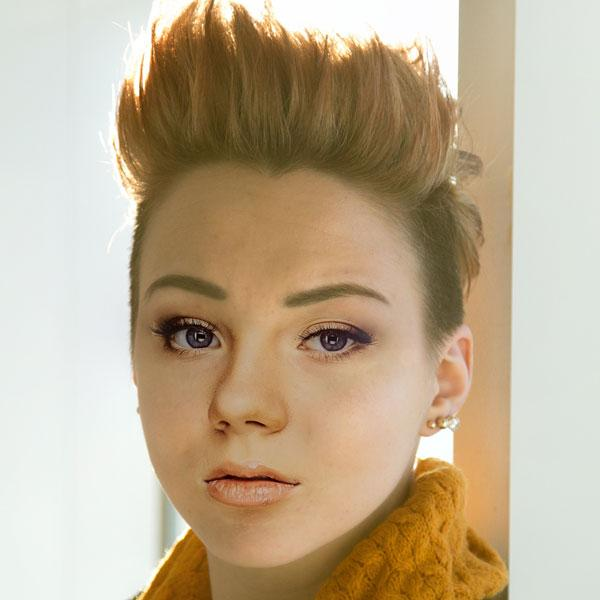Eyes: (286, 312, 381, 366), (152, 306, 229, 368)
